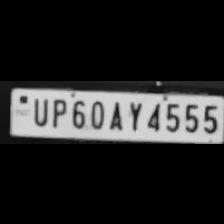0: (86, 96, 106, 128)
4: (143, 98, 161, 132)
5: (200, 100, 220, 134), (162, 100, 180, 132), (180, 100, 198, 132)
6: (67, 96, 87, 128)
A: (108, 96, 125, 130)
P: (47, 95, 67, 127)
U: (29, 94, 47, 125)
Y: (124, 97, 142, 131)
